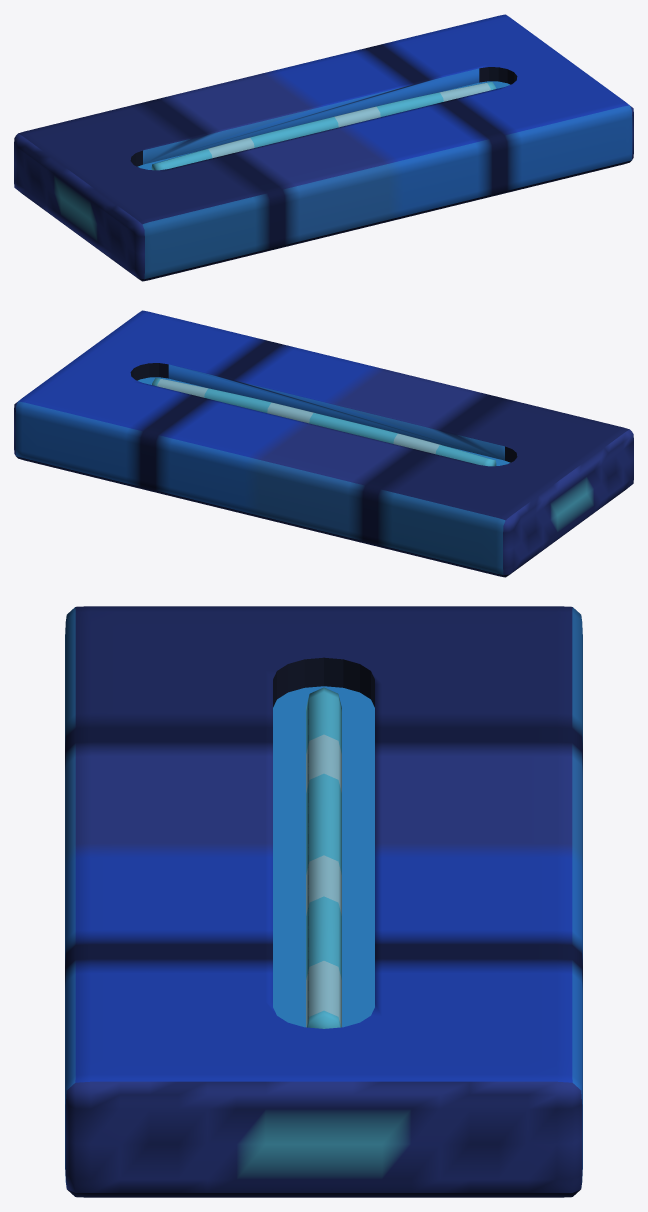
File: Plank_Plasma.glb
3 renders of one model, top to bottom at view 1: azimuth 30°, elevation 25°; view 2: azimuth 150°, elevation 25°; view 3: azimuth 270°, elevation 25°, orthographic. The views are drawn at different scales.
Parts seen in each view (by area): view 1: Plank_plasma; view 2: Plank_plasma; view 3: Plank_plasma.
Boxes of the visible parts, x1,y1,x2,y2 form: Plank_plasma: [14, 14, 633, 281]; Plank_plasma: [14, 310, 633, 577]; Plank_plasma: [65, 606, 582, 1197].
Bounding box in the file's own units: 1.24 × 0.14 × 0.56.
